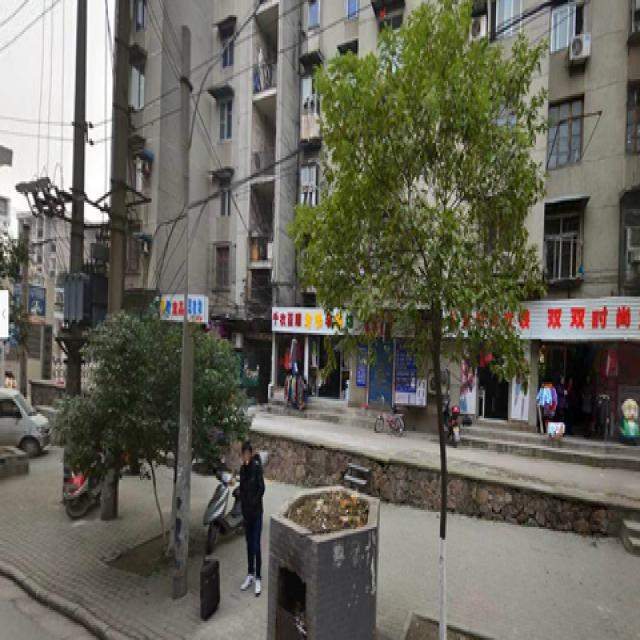cinn: (345, 43, 516, 616)
